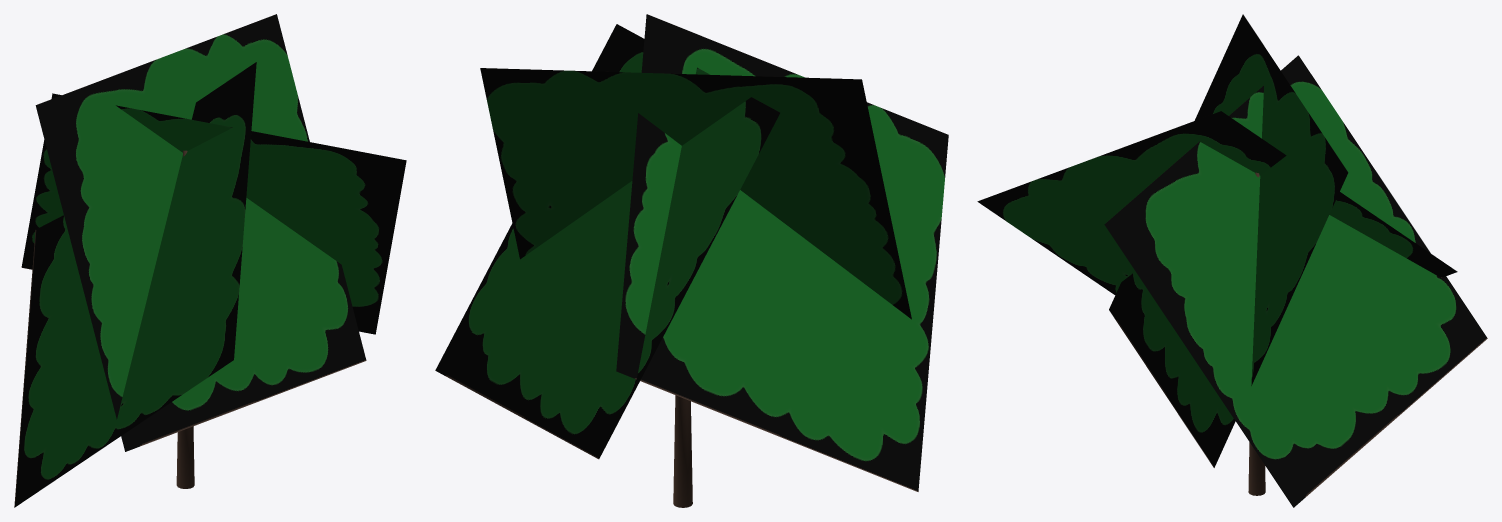
File: treee.glb
3 renders of one model, left to right at view 1: azimuth 30°, elevation 25°; view 2: azimuth 150°, elevation 25°; view 3: azimuth 270°, elevation 25°, orthographic. The views are drawn at different scales.
Parts seen in each view (by area): view 1: Cylinder; view 2: Cylinder; view 3: Cylinder.
Part boxes in pixels (x1,y1,x2,y2): Cylinder: (14, 14, 406, 507); Cylinder: (435, 14, 948, 507); Cylinder: (977, 14, 1487, 507).
Bounding box in the file's own units: 2.58 × 2.6 × 2.97.
1 material, 1 textured.
